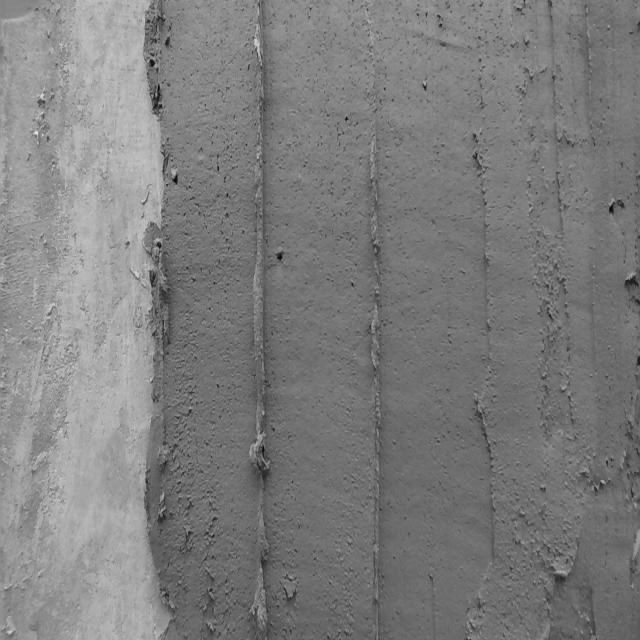trowels marks: (465, 15, 505, 640), (246, 8, 276, 637), (362, 9, 388, 640)
